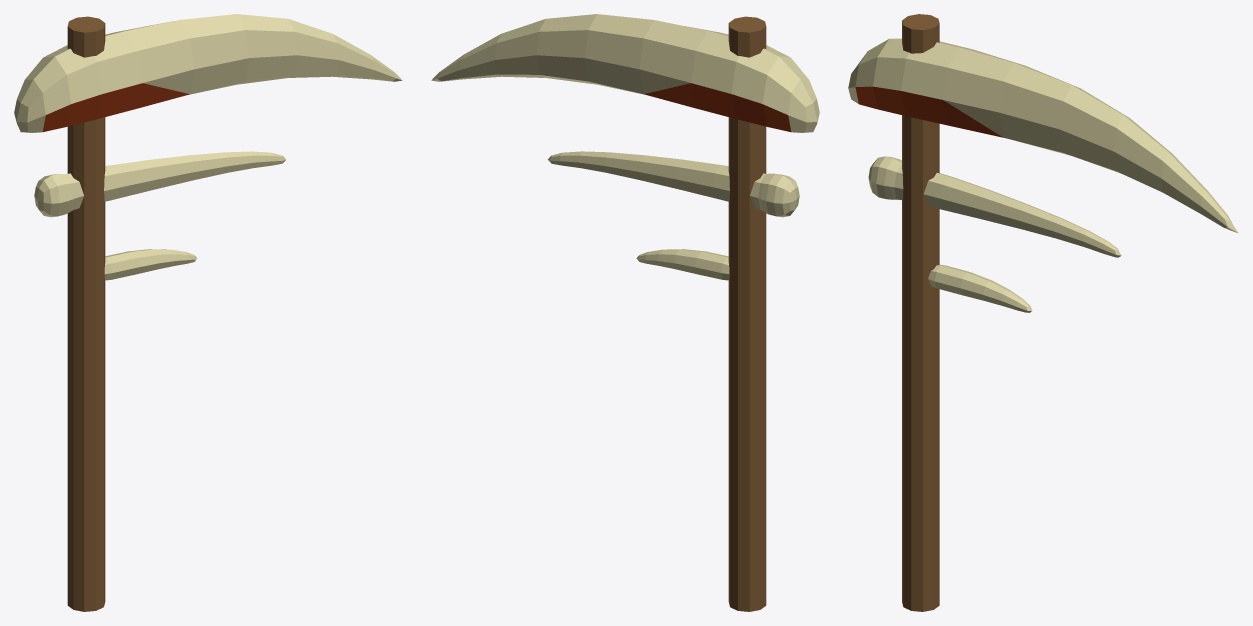
File: GoblinSickle.fbx
3 renders of one model, left to right at view 1: azimuth 30°, elevation 25°; view 2: azimuth 150°, elevation 25°; view 3: azimuth 330°, elevation 25°, orthographic.
Visible parts, largest first — view 1: Mesh; view 2: Mesh; view 3: Mesh.
Boxes of the visible parts, box(x1,y1,x2,y2) form: Mesh: box(14, 14, 402, 611); Mesh: box(431, 14, 819, 611); Mesh: box(848, 14, 1238, 611).
Bounding box in the file's own units: 116 × 167 × 18.59.
